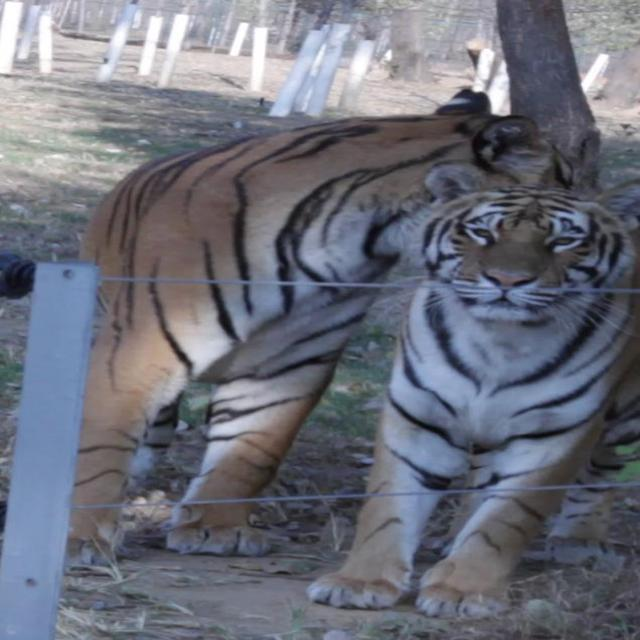tiger: (0, 48, 639, 616), (304, 132, 639, 619)
